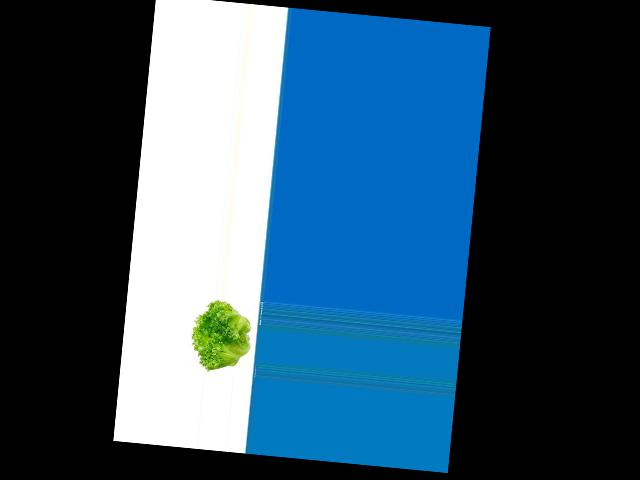lettuce: (186, 297, 258, 373)
